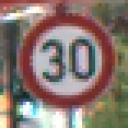speed_limit_30: (20, 13, 115, 112)
